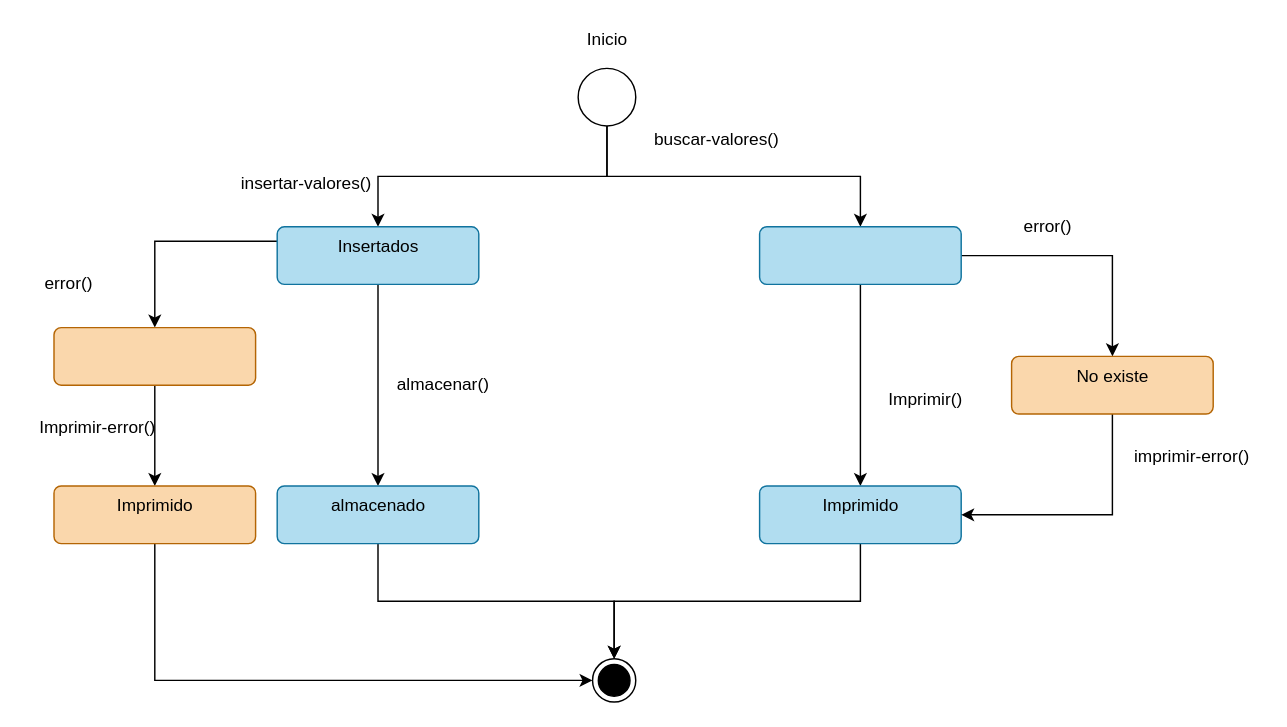
The diagram is 1287 pixels wide and 727 high, and some of its shapes have lost their labels. The shapes that lost their labels are listed below. From the top down, each one's centre as x and y in pixels, then its label:
pixel 859 254: buscado
pixel 154 355: existe
